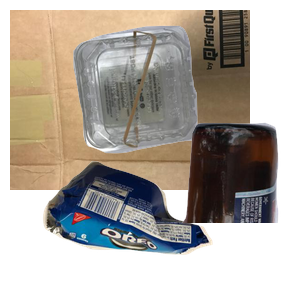cardboard: (10, 10, 250, 190)
glass: (87, 120, 300, 300)
plastic: (71, 23, 300, 169)
trash: (40, 158, 245, 300)
